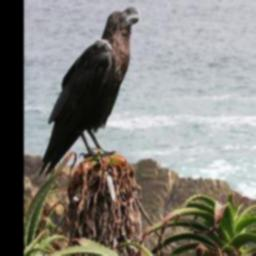Crow: (35, 4, 144, 179)
